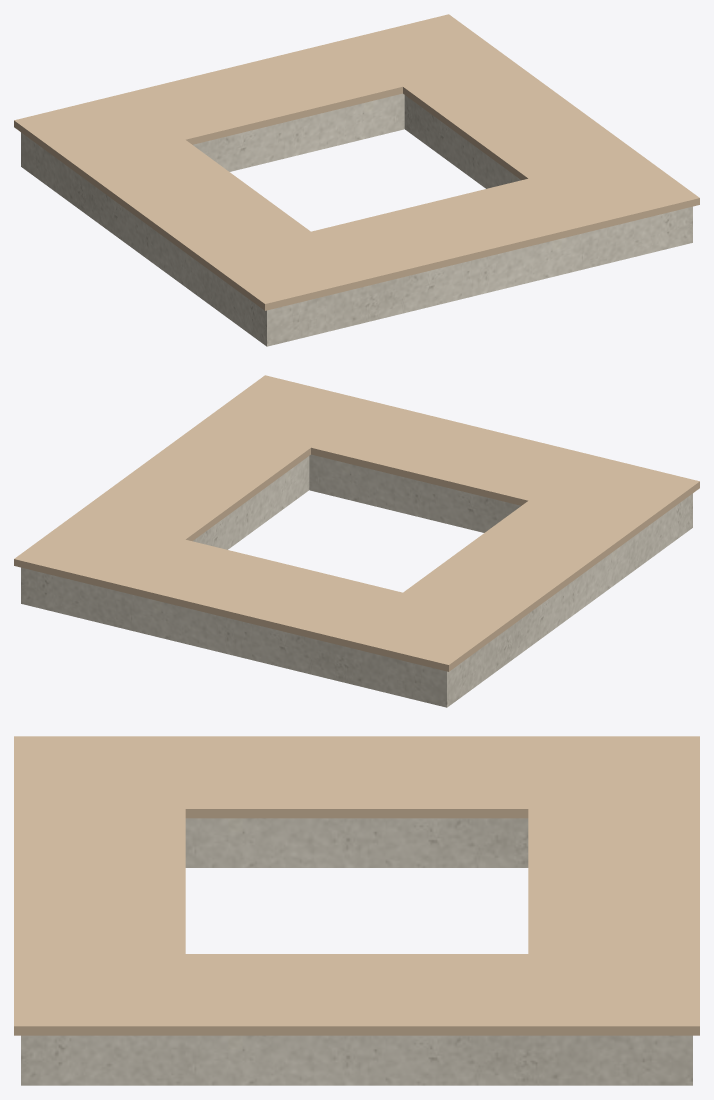
Rendered from floor_tile_pole.glb.
3 renders of one model, top to bottom at view 1: azimuth 30°, elevation 25°; view 2: azimuth 150°, elevation 25°; view 3: azimuth 270°, elevation 25°, orthographic. The views are drawn at different scales.
Parts seen in each view (by area): view 1: floor_tile_pole_floor, floor_tile_pole_plaster; view 2: floor_tile_pole_floor, floor_tile_pole_plaster; view 3: floor_tile_pole_floor, floor_tile_pole_plaster.
Boxes of the visible parts, x1,y1,x2,y2 form: floor_tile_pole_floor: (14, 14, 699, 310); floor_tile_pole_plaster: (21, 93, 692, 346); floor_tile_pole_floor: (14, 375, 699, 671); floor_tile_pole_plaster: (21, 454, 692, 707); floor_tile_pole_floor: (14, 736, 699, 1035); floor_tile_pole_plaster: (21, 818, 692, 1085).
Size of the model in its own units: 2 by 0.2 by 2.
Materials: 2 (1 with a texture image).
